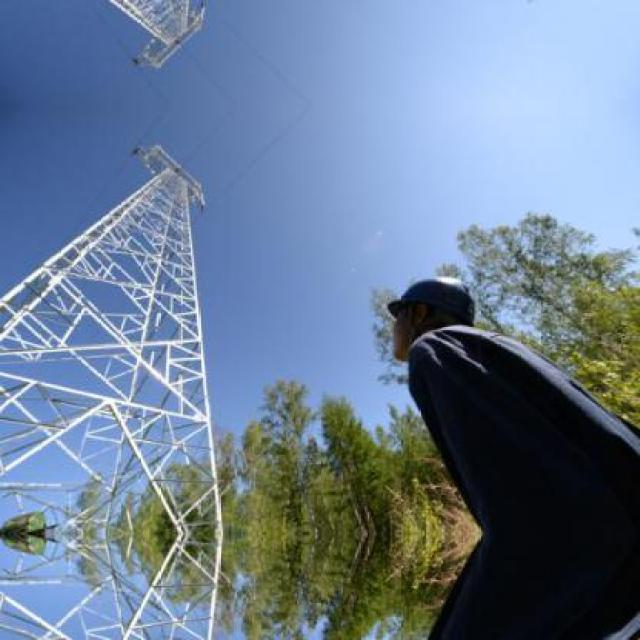helmet: (377, 263, 475, 346)
